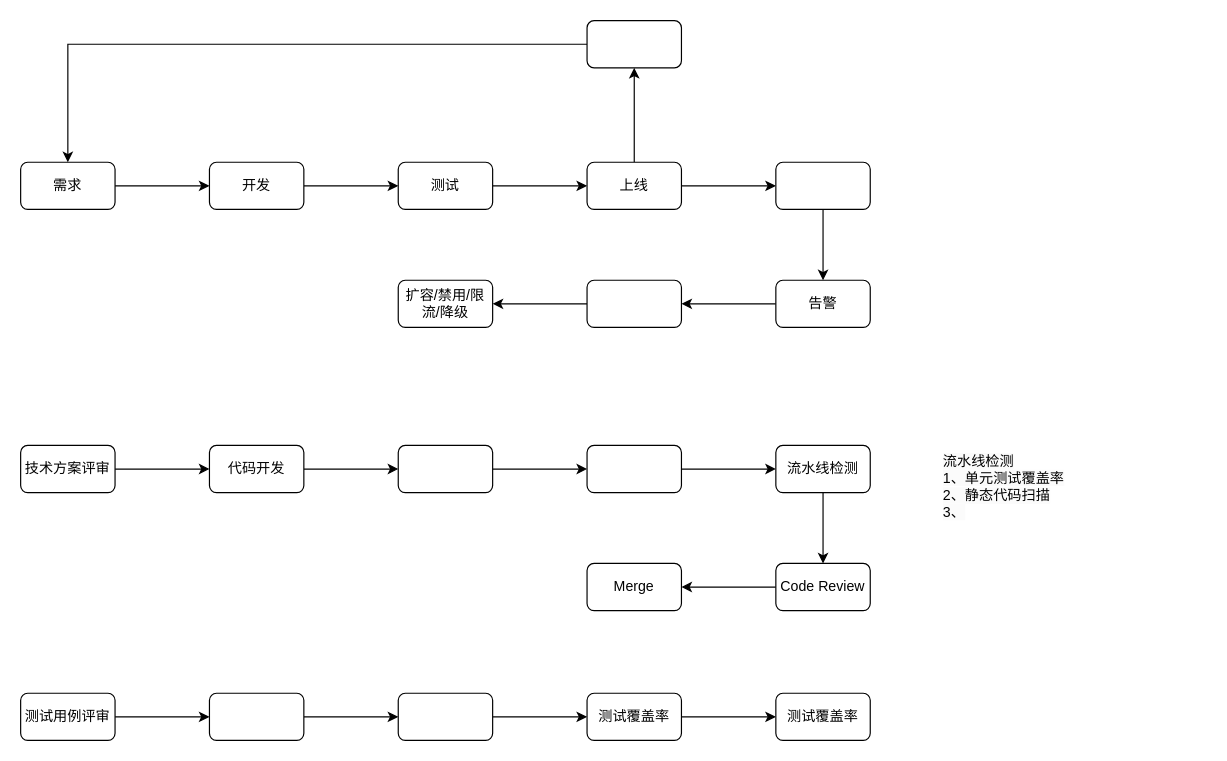
Some shapes in this 1227 by 761 pixel diagram are drawn without their labels. The centre of each missing label's shape, as x and y in pixels:
"PR" belongs at point 633,468.
"QA测试" belongs at point 445,716.
"RD自测" belongs at point 256,716.
"单元测试" belongs at point 445,468.
"工单" belongs at point 633,43.
"监控" belongs at point 822,185.
"预案" belongs at point 633,303.
